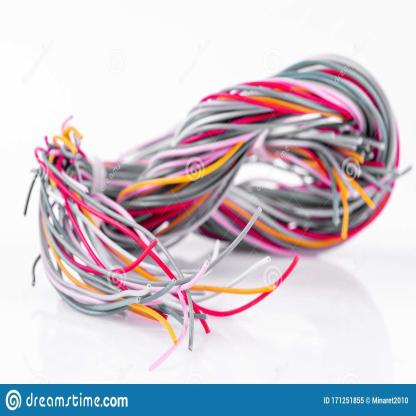wires: (33, 54, 401, 370)
